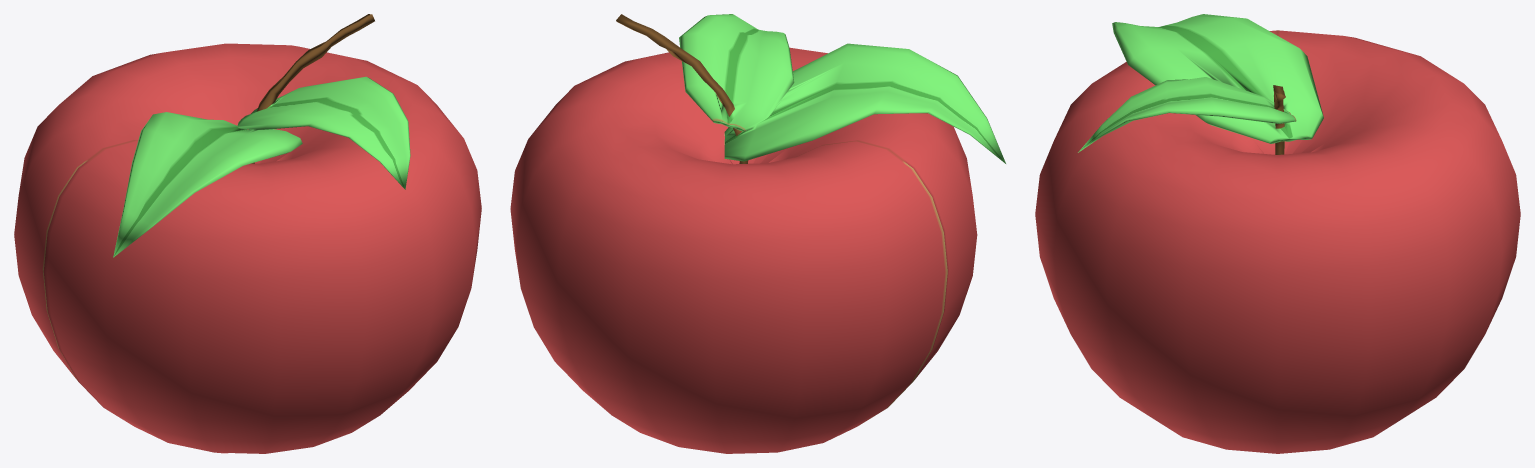
Rendered from apple.obj.
3 renders of one model, left to right at view 1: azimuth 30°, elevation 25°; view 2: azimuth 150°, elevation 25°; view 3: azimuth 270°, elevation 25°, orthographic. The views are drawn at different scales.
Parts seen in each view (by area): view 1: Sphere.001_Sphere.003; view 2: Sphere.001_Sphere.003; view 3: Sphere.001_Sphere.003.
Part boxes in pixels (x1=…): Sphere.001_Sphere.003: x1=14, y1=14, x2=481, y2=453; Sphere.001_Sphere.003: x1=510, y1=14, x2=1005, y2=453; Sphere.001_Sphere.003: x1=1035, y1=14, x2=1520, y2=453.
Bounding box in the file's own units: 0.2 × 0.1744 × 0.2.
1 material, 1 textured.
